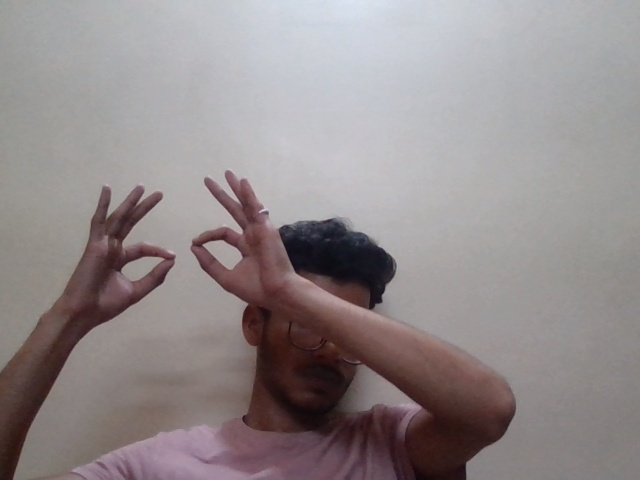nice: (57, 169, 292, 344)
